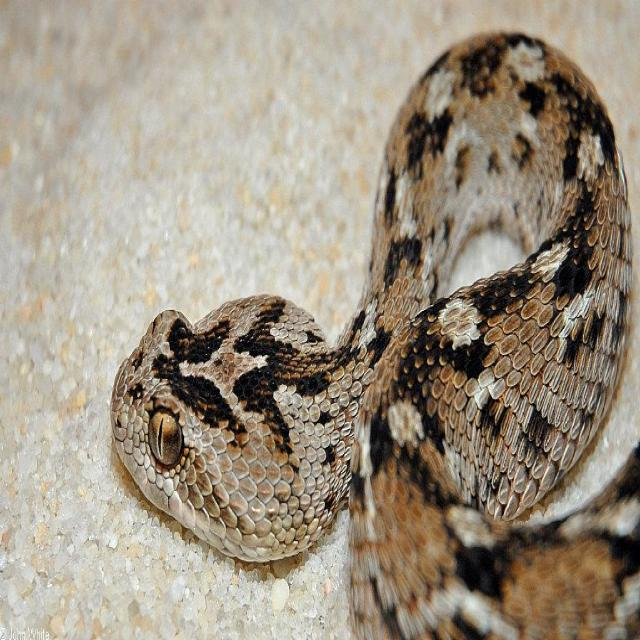Snake: (110, 28, 636, 638)
